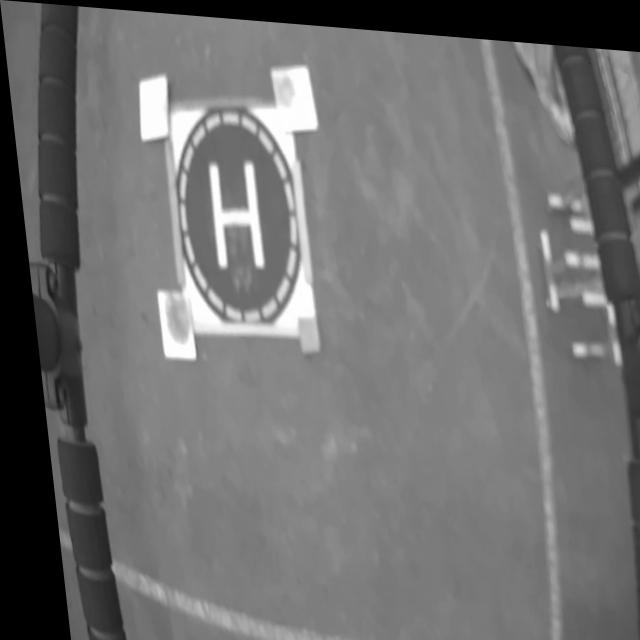Helipad: (205, 160, 259, 267)
